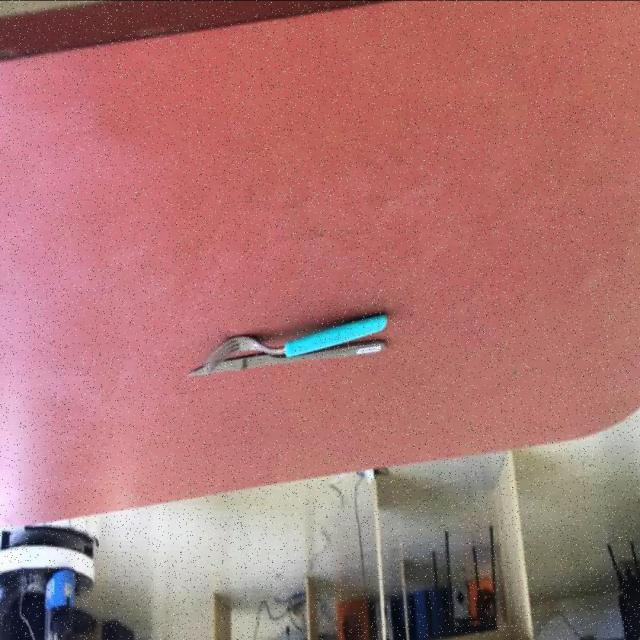Fork: (186, 310, 387, 376)
Knife: (186, 310, 387, 377)
